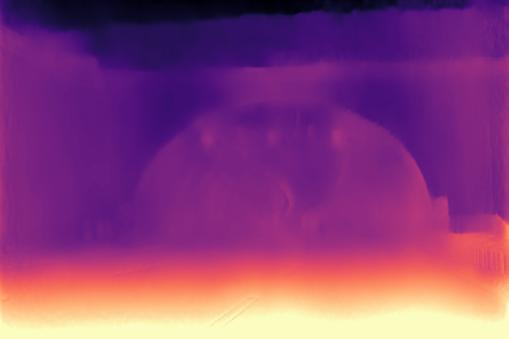Real_Tunnel: (115, 95, 446, 262)
